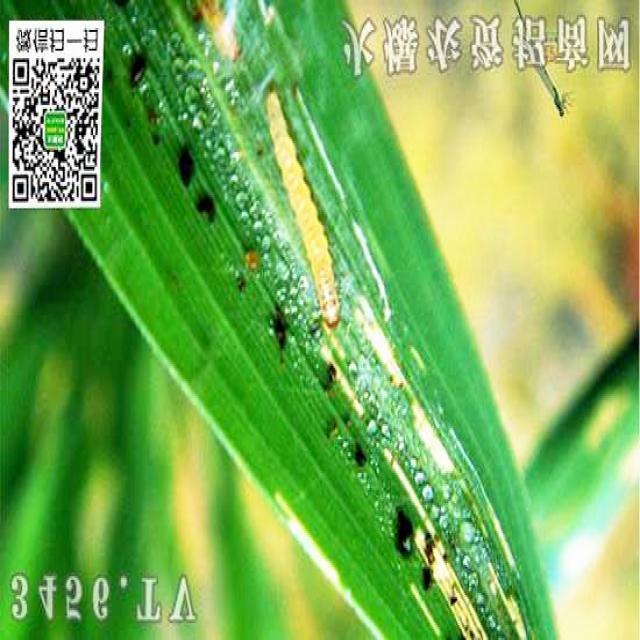leaf-folder: (253, 67, 351, 343)
